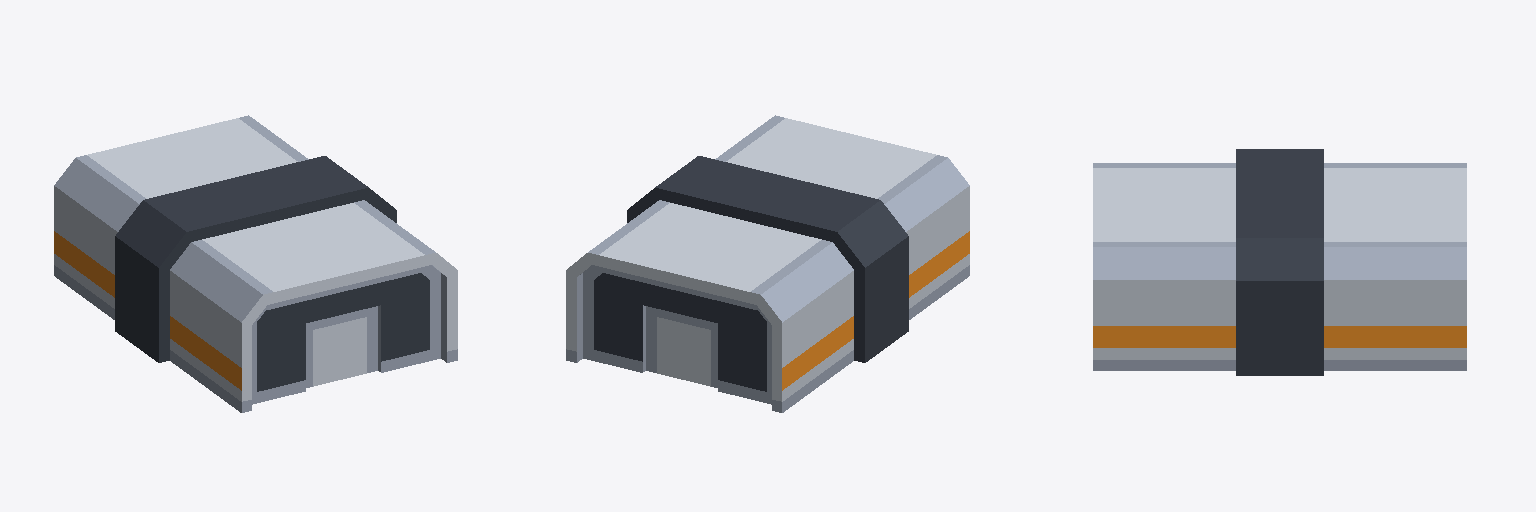
The model's file is hangar_test.obj.
3 renders of one model, left to right at view 1: azimuth 30°, elevation 25°; view 2: azimuth 150°, elevation 25°; view 3: azimuth 270°, elevation 25°, orthographic.
Visible parts, largest first — view 1: hangar_largeB, gate.001; view 2: hangar_largeB, gate; view 3: hangar_largeB.
Part boxes in pixels (bbox=[...]): hangar_largeB: bbox=[54, 115, 457, 412]; gate.001: bbox=[252, 265, 440, 404]; hangar_largeB: bbox=[566, 115, 969, 412]; gate: bbox=[583, 265, 771, 404]; hangar_largeB: bbox=[1093, 149, 1466, 375].
Bounding box in the file's own units: 2.2 × 1.1 × 3.